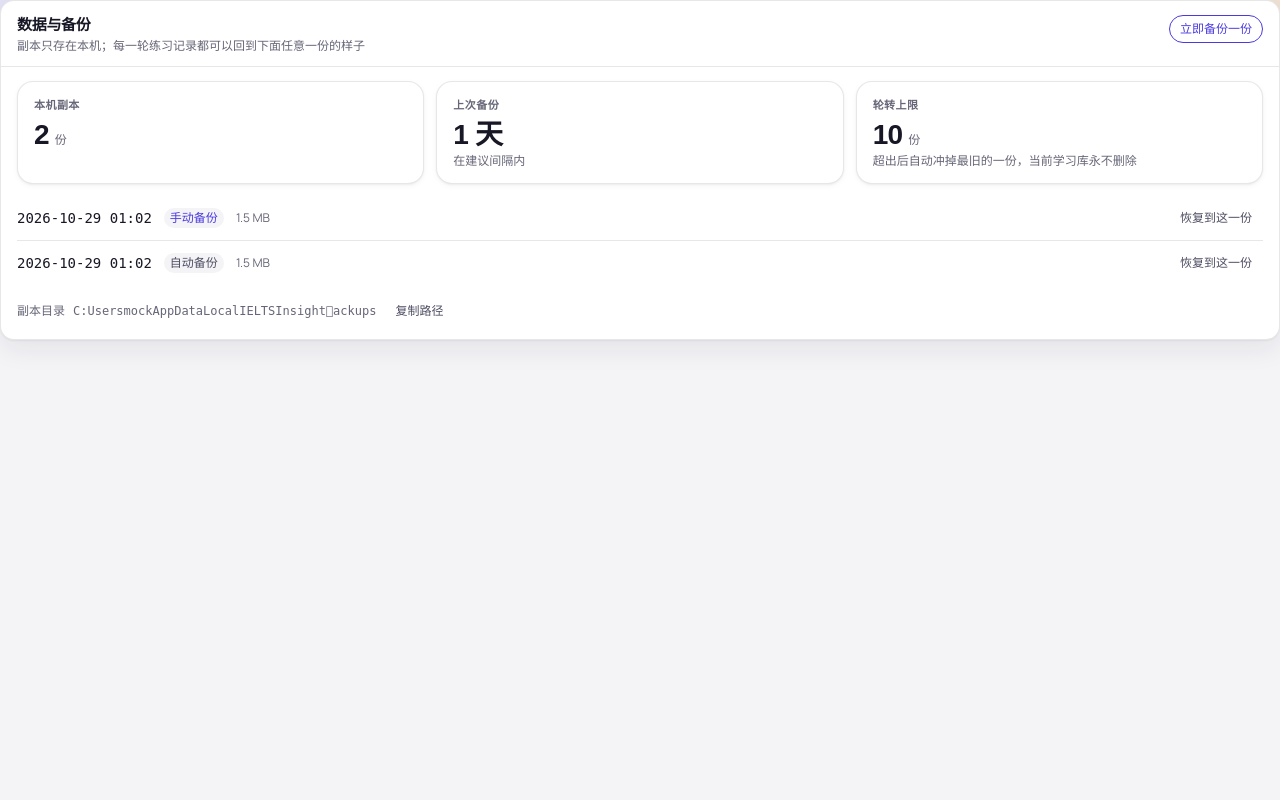
Test: 数据与备份（§14.8） › 确认后才发 restore；成功后说明其它页面要重新读取，并列出那份恢复前副本
The image size is (1280, 800).
Expected: the list named "本机快照" is shown, top-left (17, 196), bottom-right (1263, 285)
Click the button "恢复到这一份" in the row of "自动备份": (1216, 263) top-left (1169, 249), bottom-right (1263, 277)
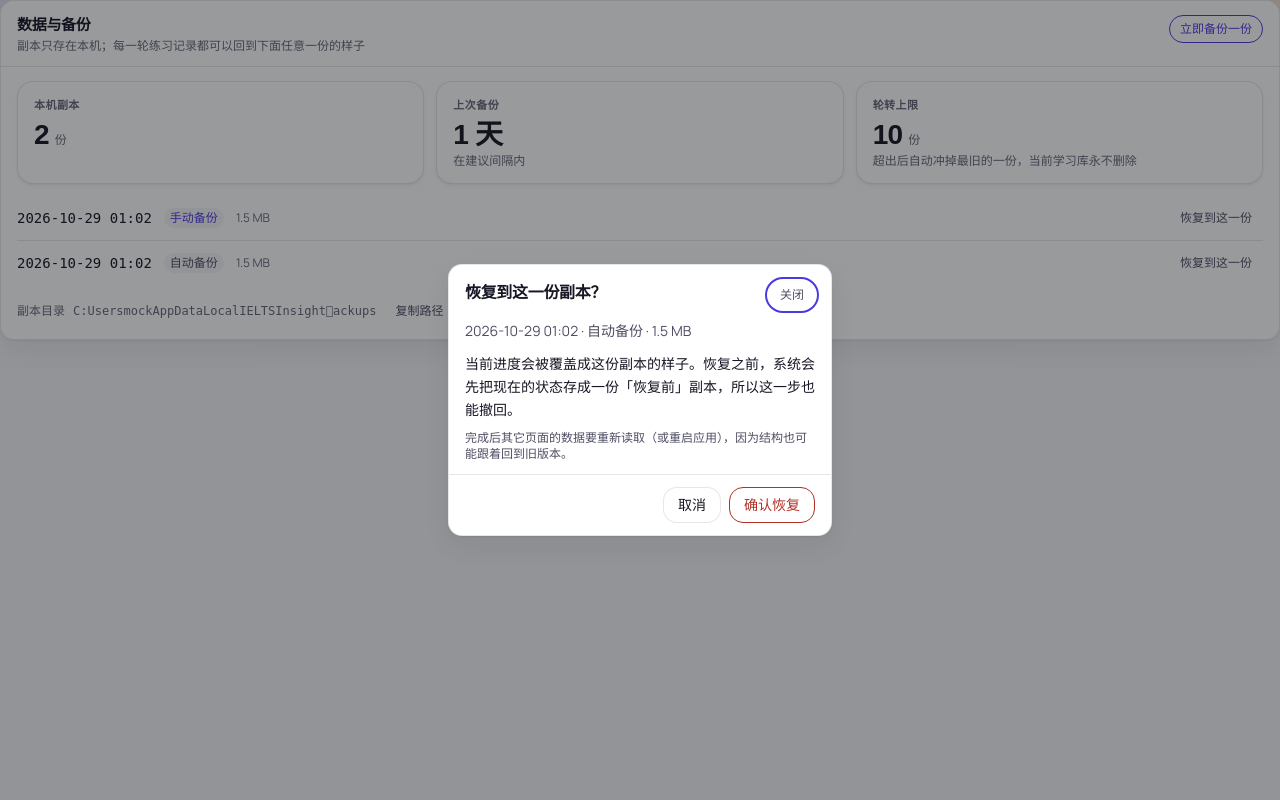
Click the button "确认恢复": (772, 505) top-left (729, 487), bottom-right (815, 523)
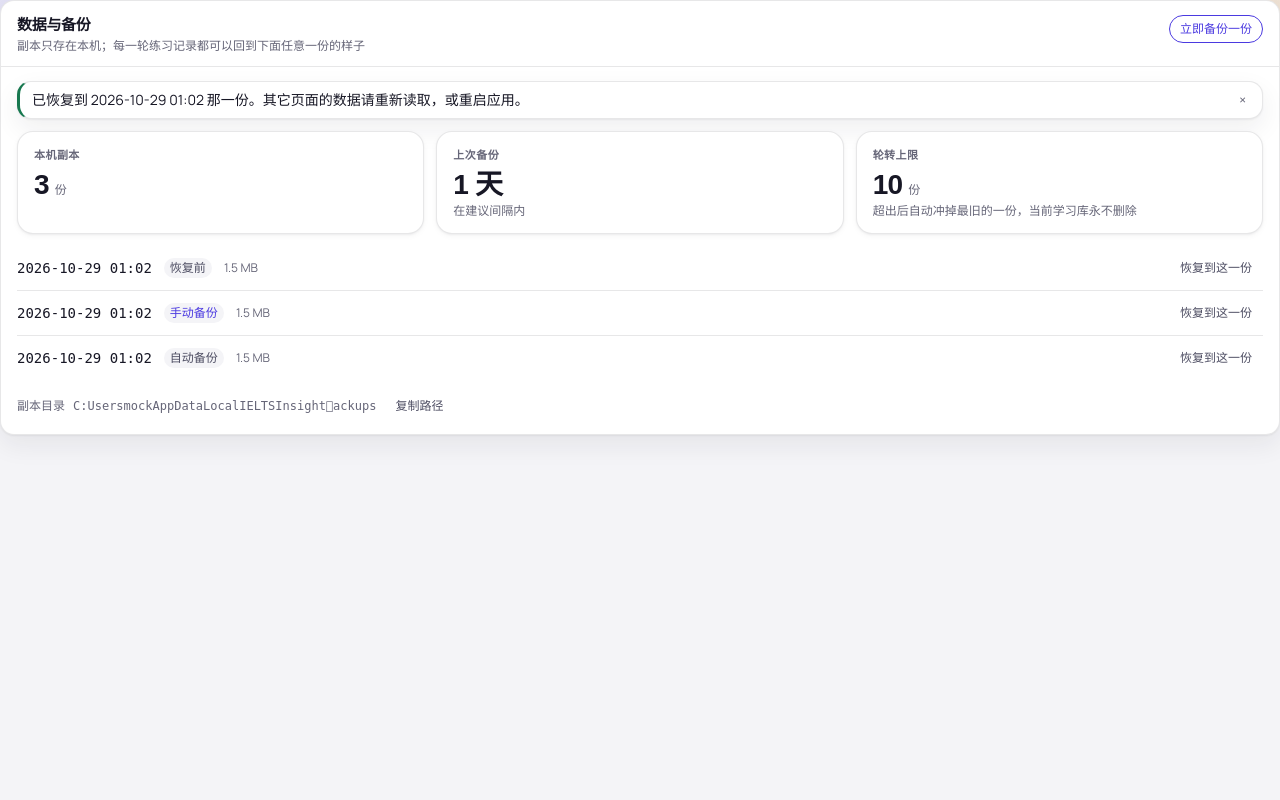
Expected: the text "恢复前" is shown, top-left (164, 258), bottom-right (212, 278)
Expected: the message shows "已恢复", top-left (17, 81), bottom-right (1263, 119)
Expected: the message reads "已恢复到 2026-10-29 01:02 那一份。其它页面的数据请重新读取，或重启应用。 ×", top-left (32, 90), bottom-right (529, 109)
